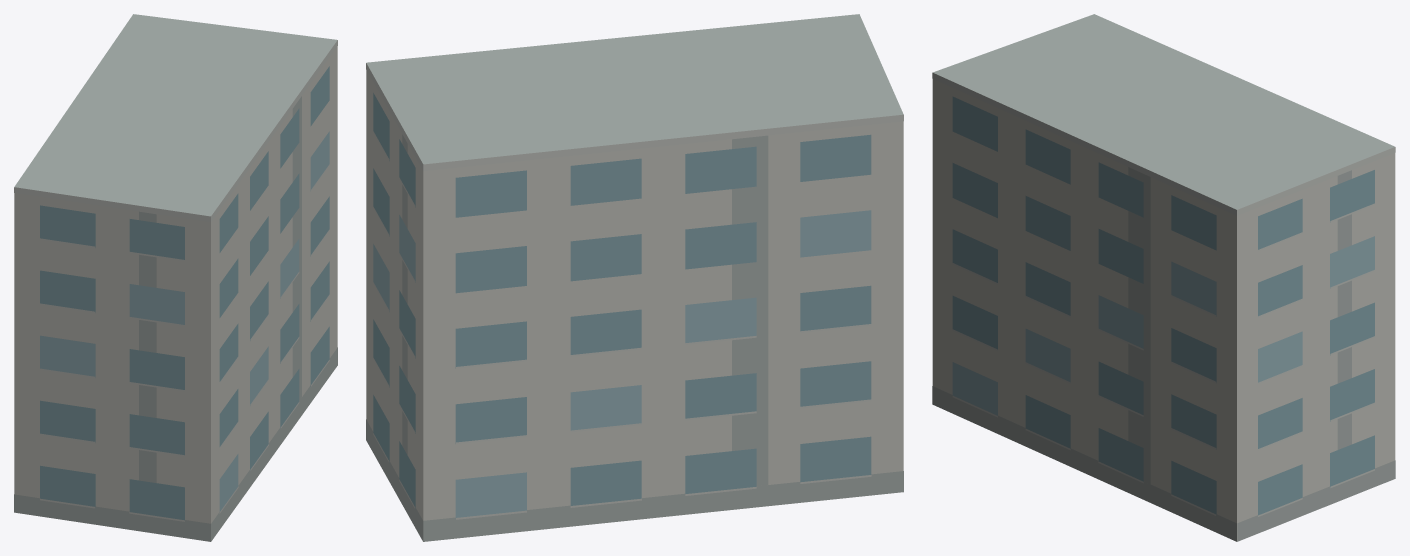
File: survey-upis-32710563.glb
3 renders of one model, left to right at view 1: azimuth 30°, elevation 25°; view 2: azimuth 150°, elevation 25°; view 3: azimuth 270°, elevation 25°, orthographic. The views are drawn at different scales.
Parts seen in each view (by area): view 1: survey-upis-32710563.tmp; view 2: survey-upis-32710563.tmp; view 3: survey-upis-32710563.tmp.
Boxes of the visible parts, left/top/right/bottom form: survey-upis-32710563.tmp: left=14, top=14, right=337, bottom=541; survey-upis-32710563.tmp: left=366, top=14, right=903, bottom=541; survey-upis-32710563.tmp: left=932, top=14, right=1395, bottom=541.
Size of the model in its own units: 16.97 by 13.4 by 16.94.
